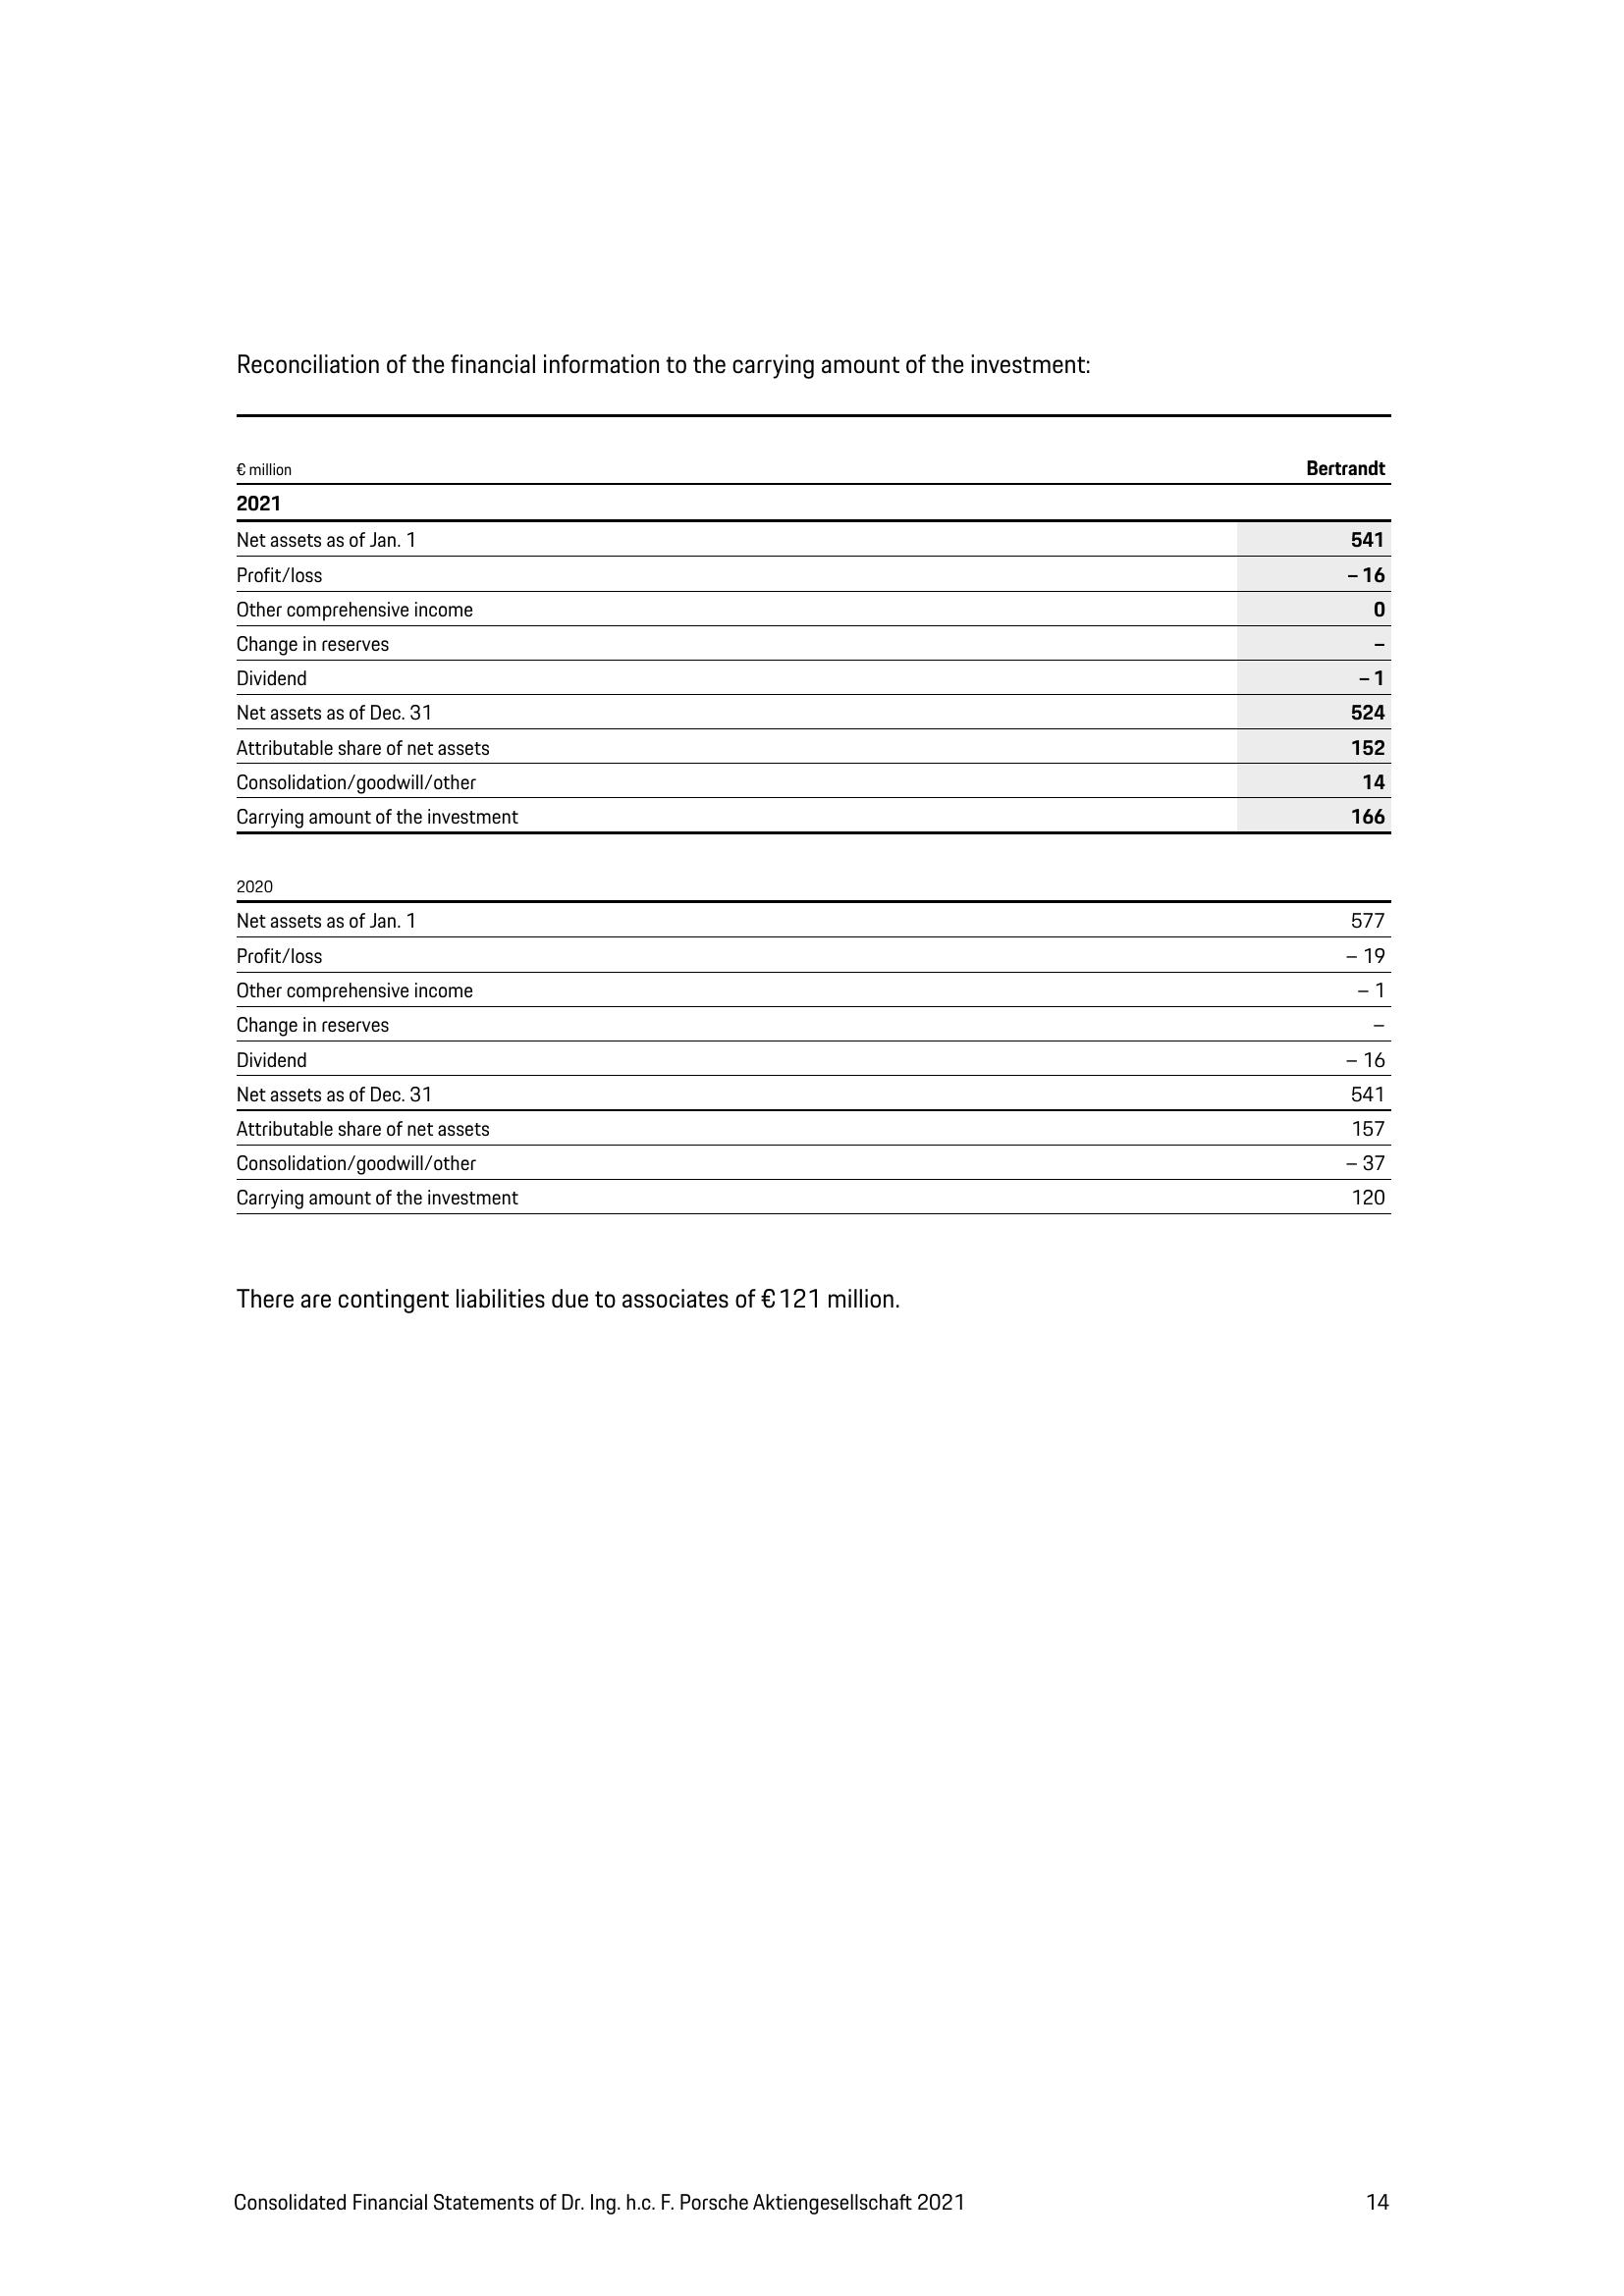Footer: (0, 2134, 1624, 2296)
Header: (0, 0, 1624, 220)
Table: (207, 411, 1420, 1217)
